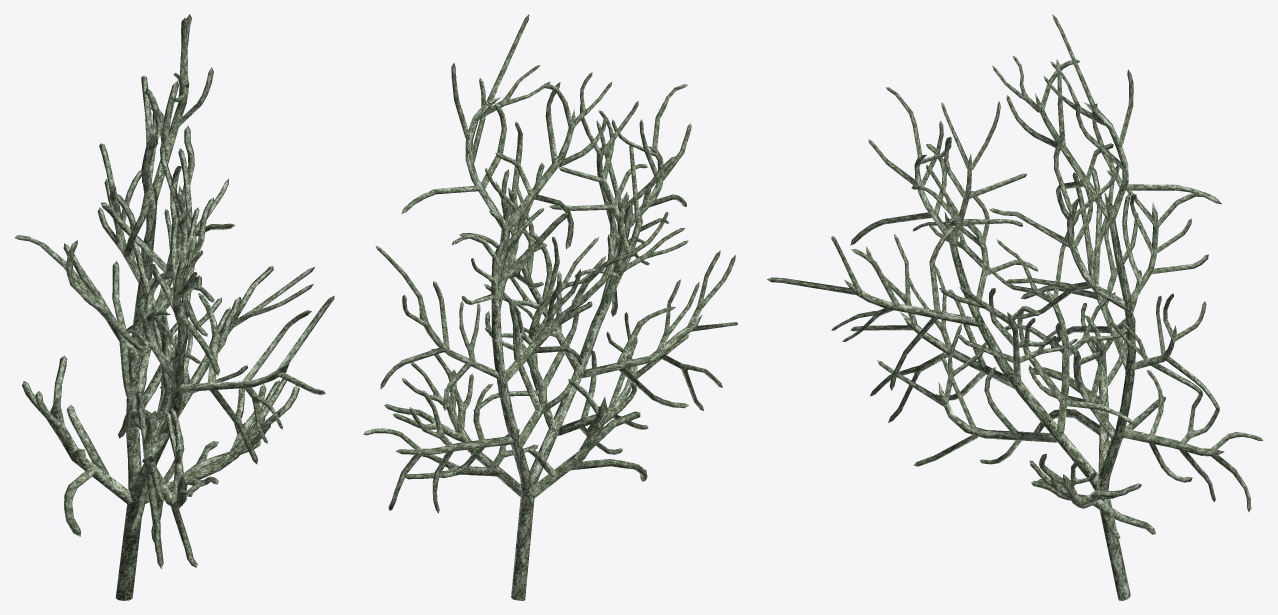
The model's file is FanCoralCluster.007_FBX_still.fbx.
3 renders of one model, left to right at view 1: azimuth 30°, elevation 25°; view 2: azimuth 150°, elevation 25°; view 3: azimuth 270°, elevation 25°, orthographic. The views are drawn at different scales.
Visible parts, largest first — view 1: FanCoralCluster.007_gameasset; view 2: FanCoralCluster.007_gameasset; view 3: FanCoralCluster.007_gameasset.
Part boxes in pixels (<box>): FanCoralCluster.007_gameasset: <box>14,14,334,600</box>; FanCoralCluster.007_gameasset: <box>363,14,737,600</box>; FanCoralCluster.007_gameasset: <box>767,14,1262,600</box>.
Bounding box in the file's own units: 3.16 × 6.92 × 5.23.
Materials: 1 (1 with a texture image).
